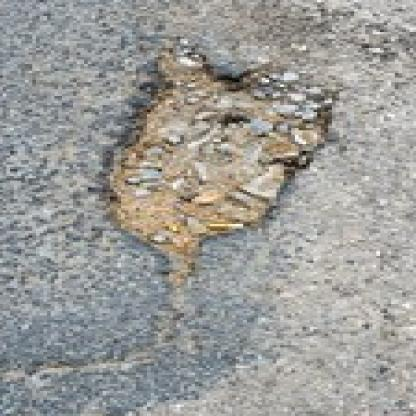pothole: (103, 35, 343, 275)
